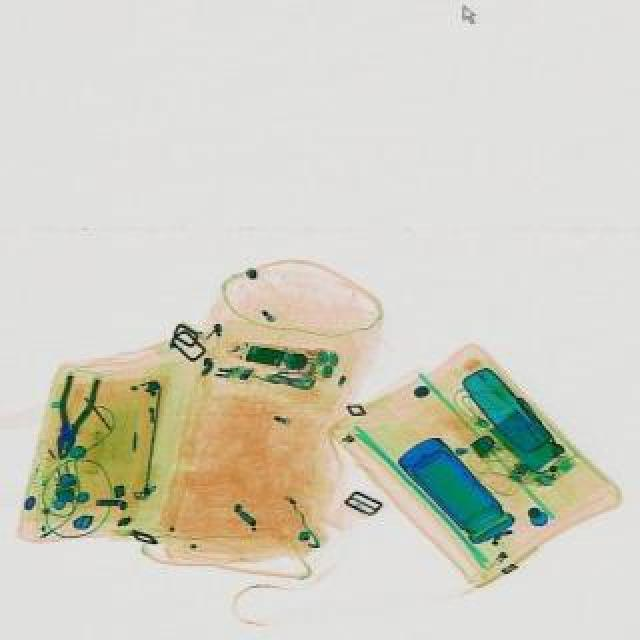wrench: (42, 372, 98, 462)
